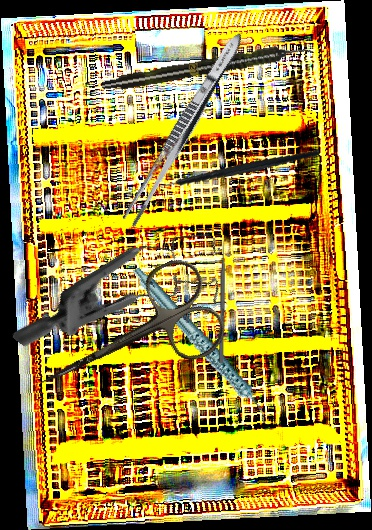Chopper: (150, 127, 320, 221)
Dressing Forceps: (118, 27, 249, 232)
Handpiece: (132, 246, 270, 445), (100, 40, 314, 95)
Iris Scissors: (17, 251, 234, 427)
Pusher: (218, 235, 227, 364)
Speculum: (10, 175, 247, 423)
